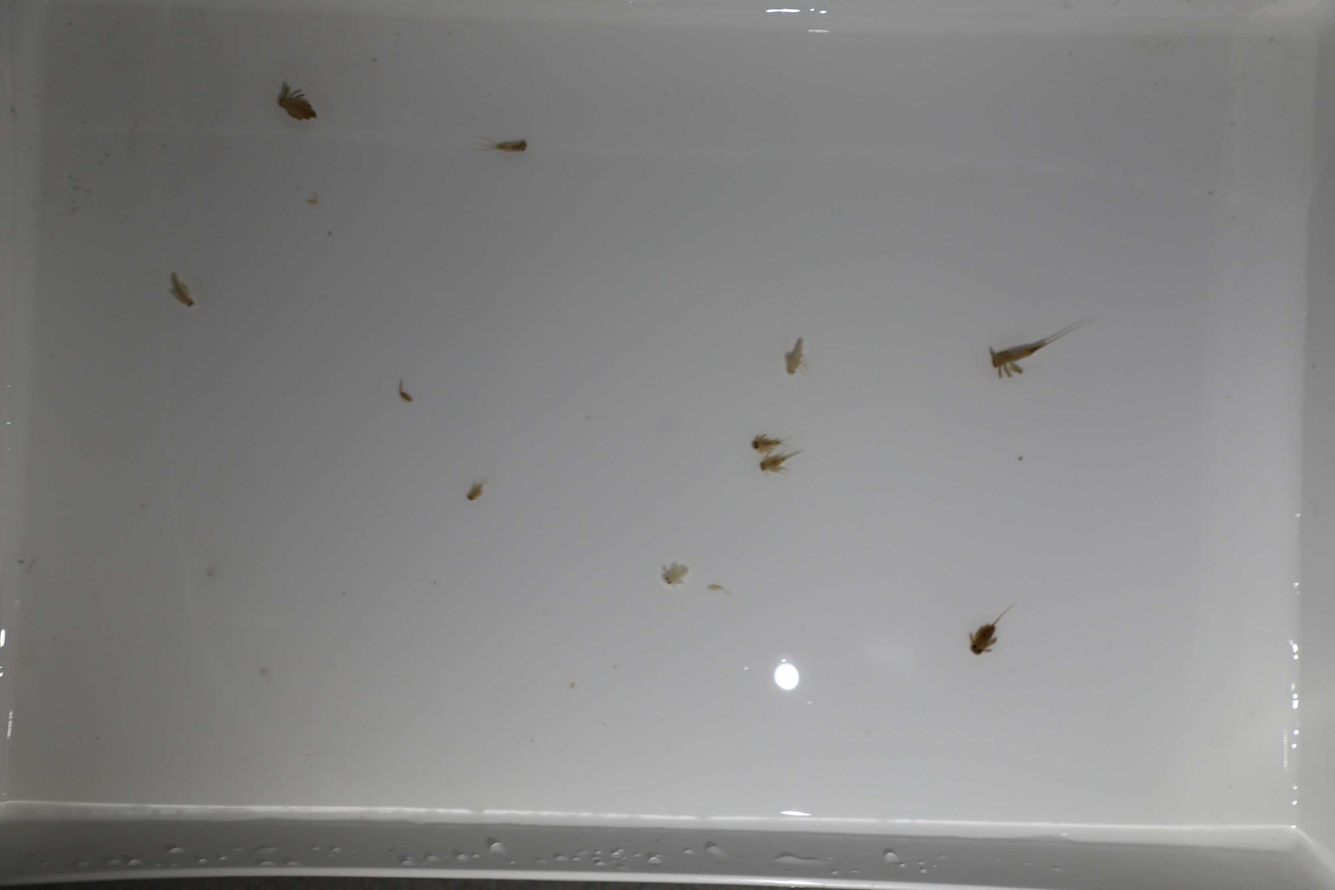Mayfly: (978, 312, 1100, 381), (961, 603, 1020, 657), (269, 79, 325, 127), (773, 332, 819, 380), (479, 129, 540, 162), (745, 449, 811, 474), (163, 271, 200, 309), (646, 563, 702, 588), (456, 474, 492, 507), (741, 433, 791, 454)
